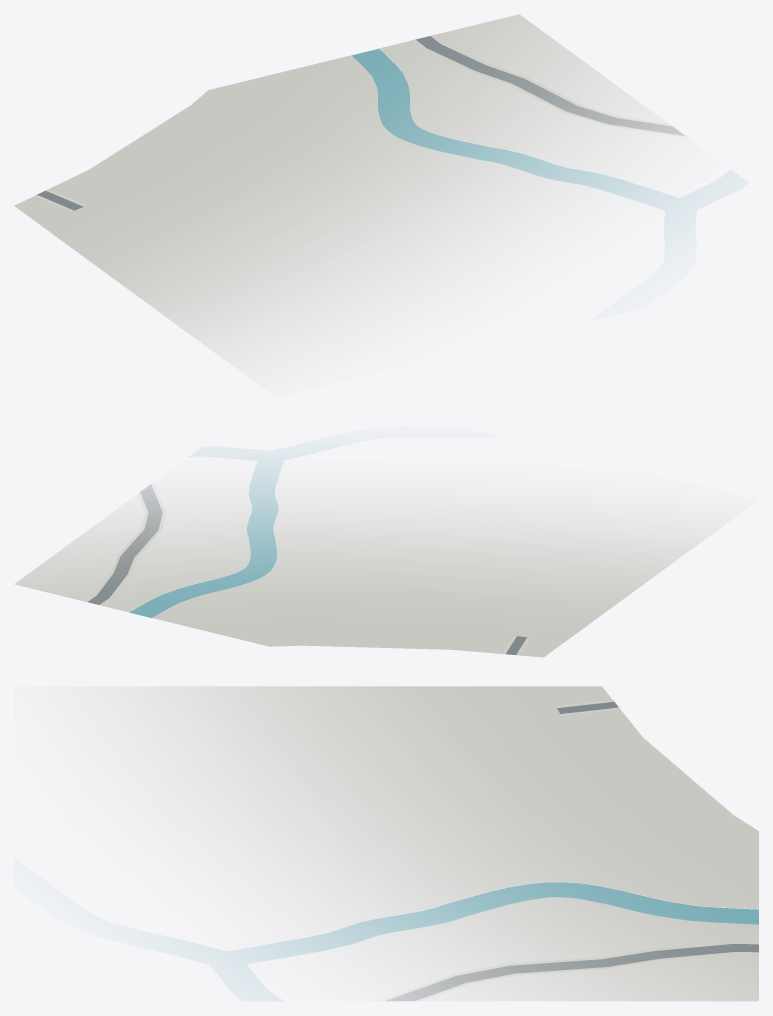
3 views of the same model, one above another, from view 1: azimuth 30°, elevation 25°; view 2: azimuth 150°, elevation 25°; view 3: azimuth 270°, elevation 25° (orthographic). The views are drawn at different scales.
Visible parts, largest first — view 1: city; view 2: city; view 3: city.
Boxes of the visible parts, x1=… form: city: x1=14, y1=14, x2=738, y2=382; city: x1=14, y1=450, x2=740, y2=657; city: x1=60, y1=686, x2=758, y2=1001.
Bounding box in the file's own units: 500 × 0.4 × 500.
